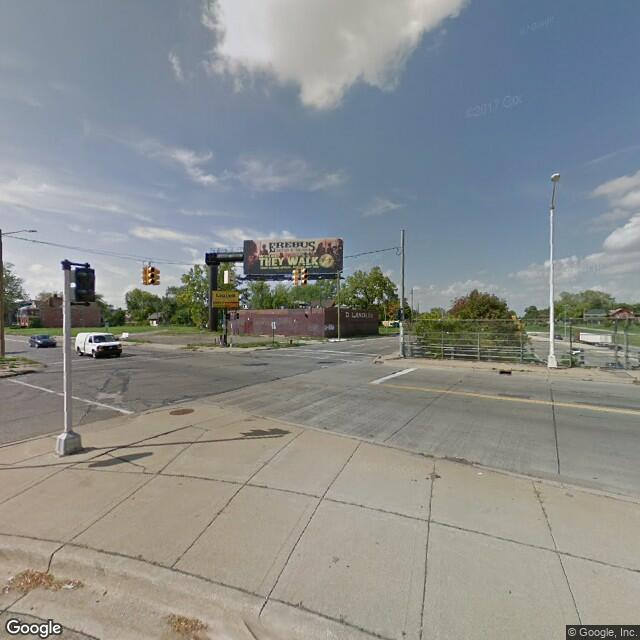litter: (61, 583, 75, 591), (582, 375, 595, 382)
